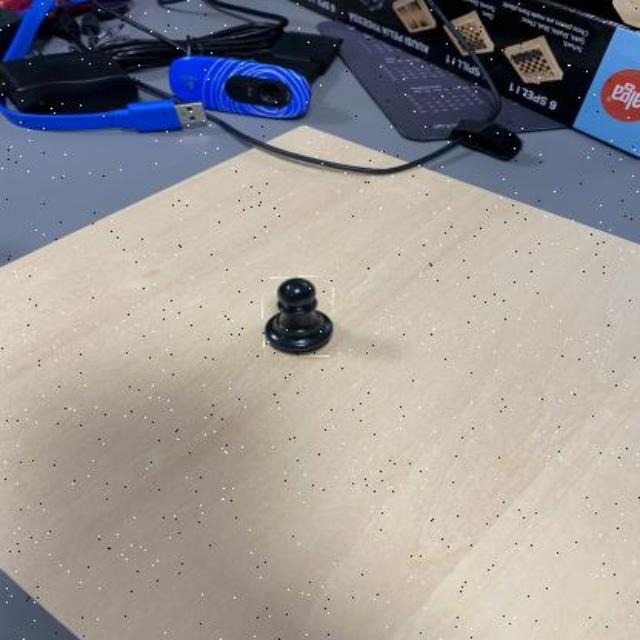black-pawn: (262, 277, 334, 357)
